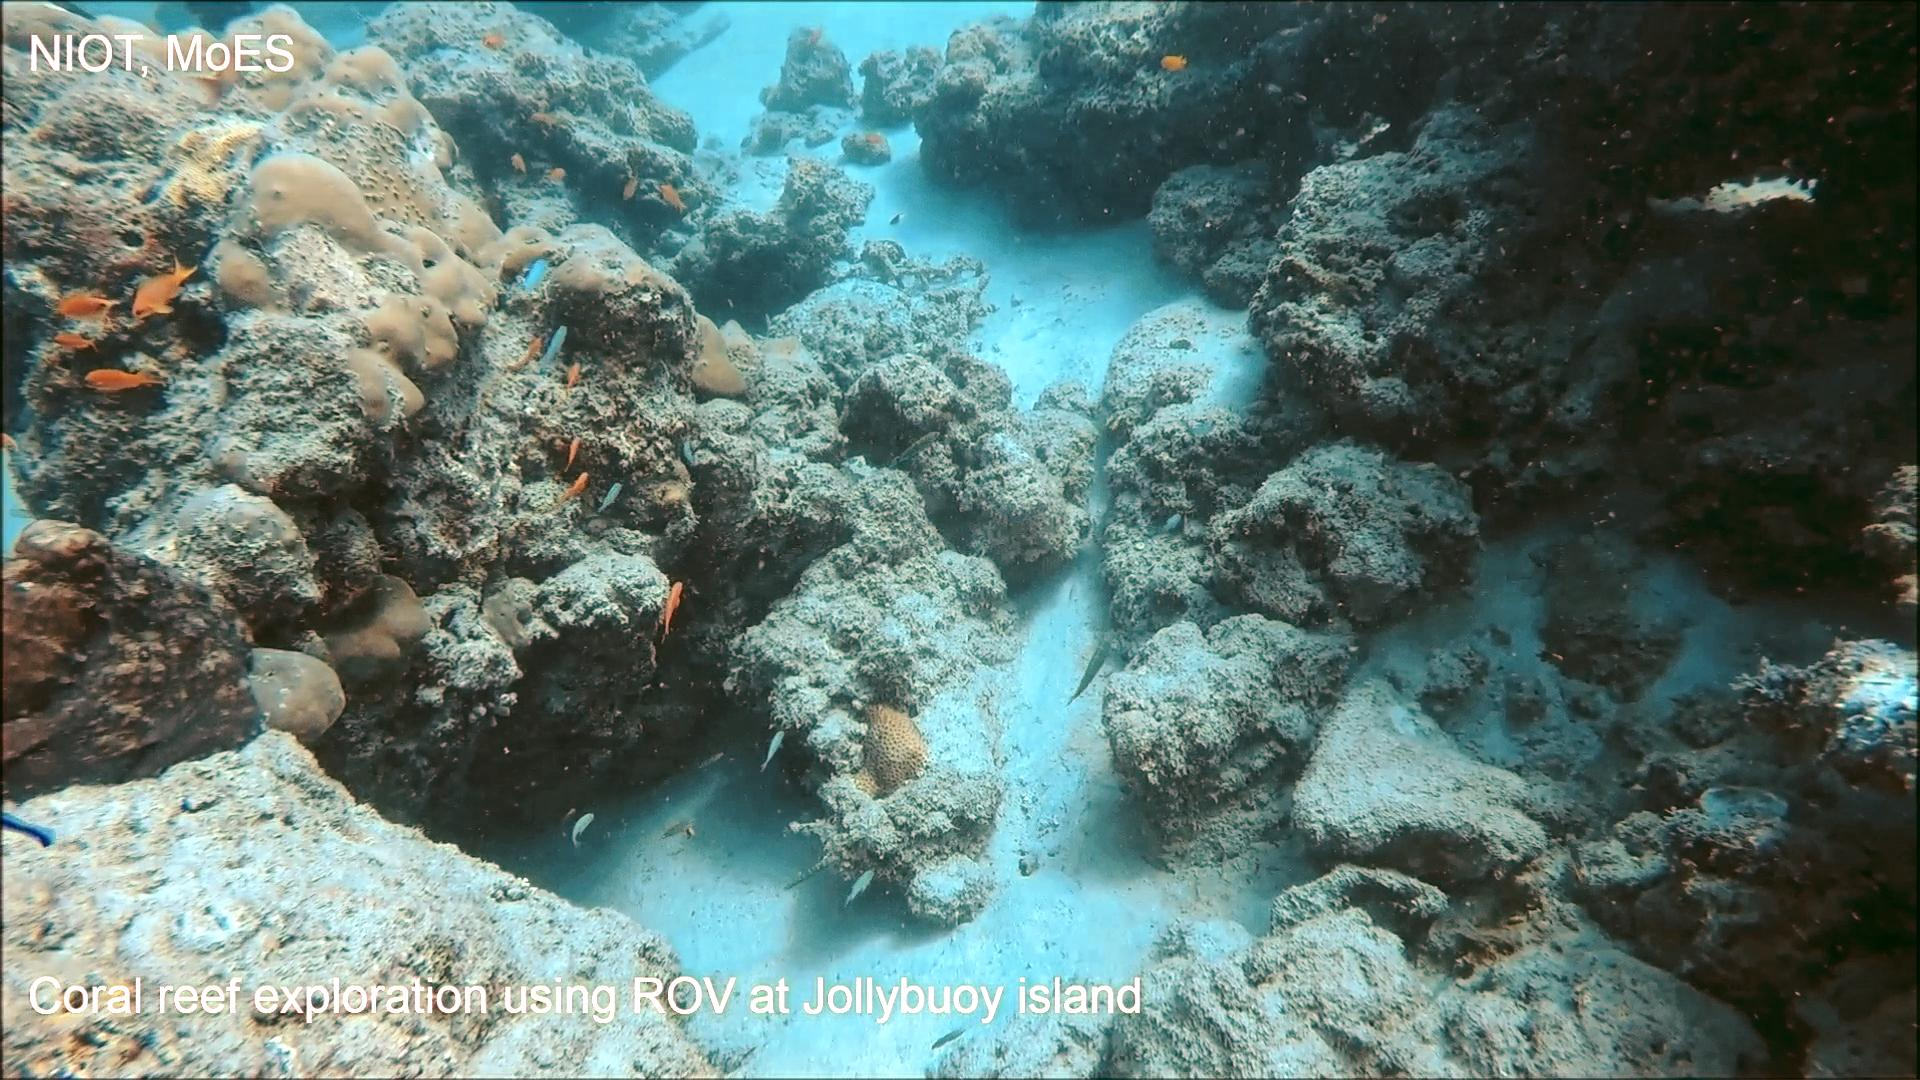Porites-Porites pukoensis: (157, 3, 568, 430)
